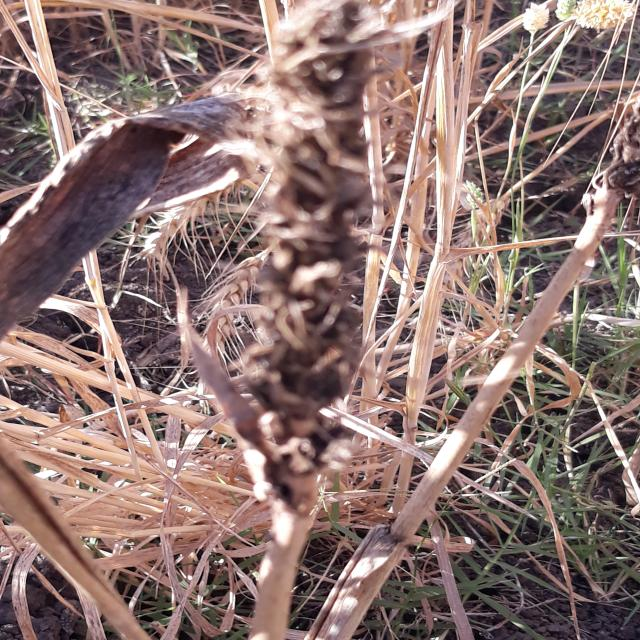loose_charred: (217, 4, 424, 546), (0, 84, 250, 350), (0, 415, 151, 640), (279, 519, 447, 640), (568, 70, 639, 245)
